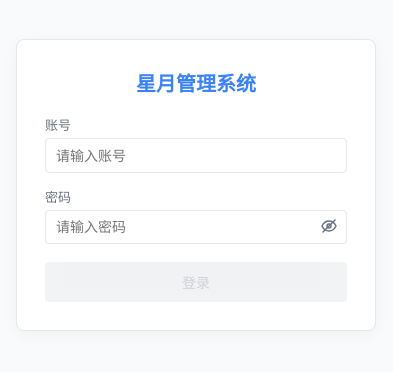
it: Login › 401 (账号或密码错):展示后端 error 文案,按钮恢复可点
Type "admin" into the field with test id "account-input" at (196,156), box [45, 138, 347, 173]
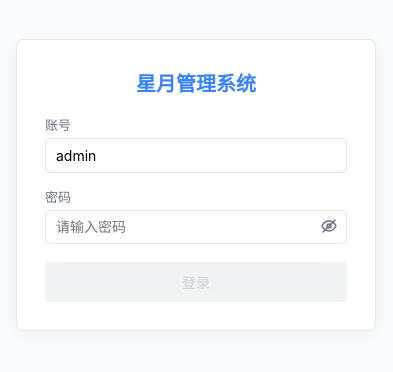
Type "wrong" into the password field with test id "password-input" at (196,227), box [45, 210, 347, 244]
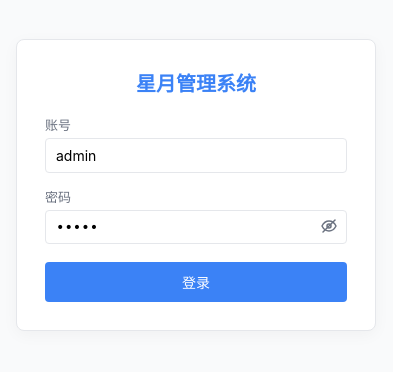
Click the button with test id "login-submit" at (196,282), box [45, 262, 347, 302]
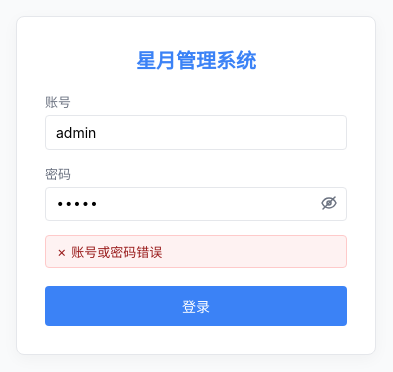
Check: the button with test id "login-submit" is enabled, box [45, 286, 347, 326]
Check: the message with test id "login-error" shows "账号或密码错误", box [71, 244, 162, 260]
